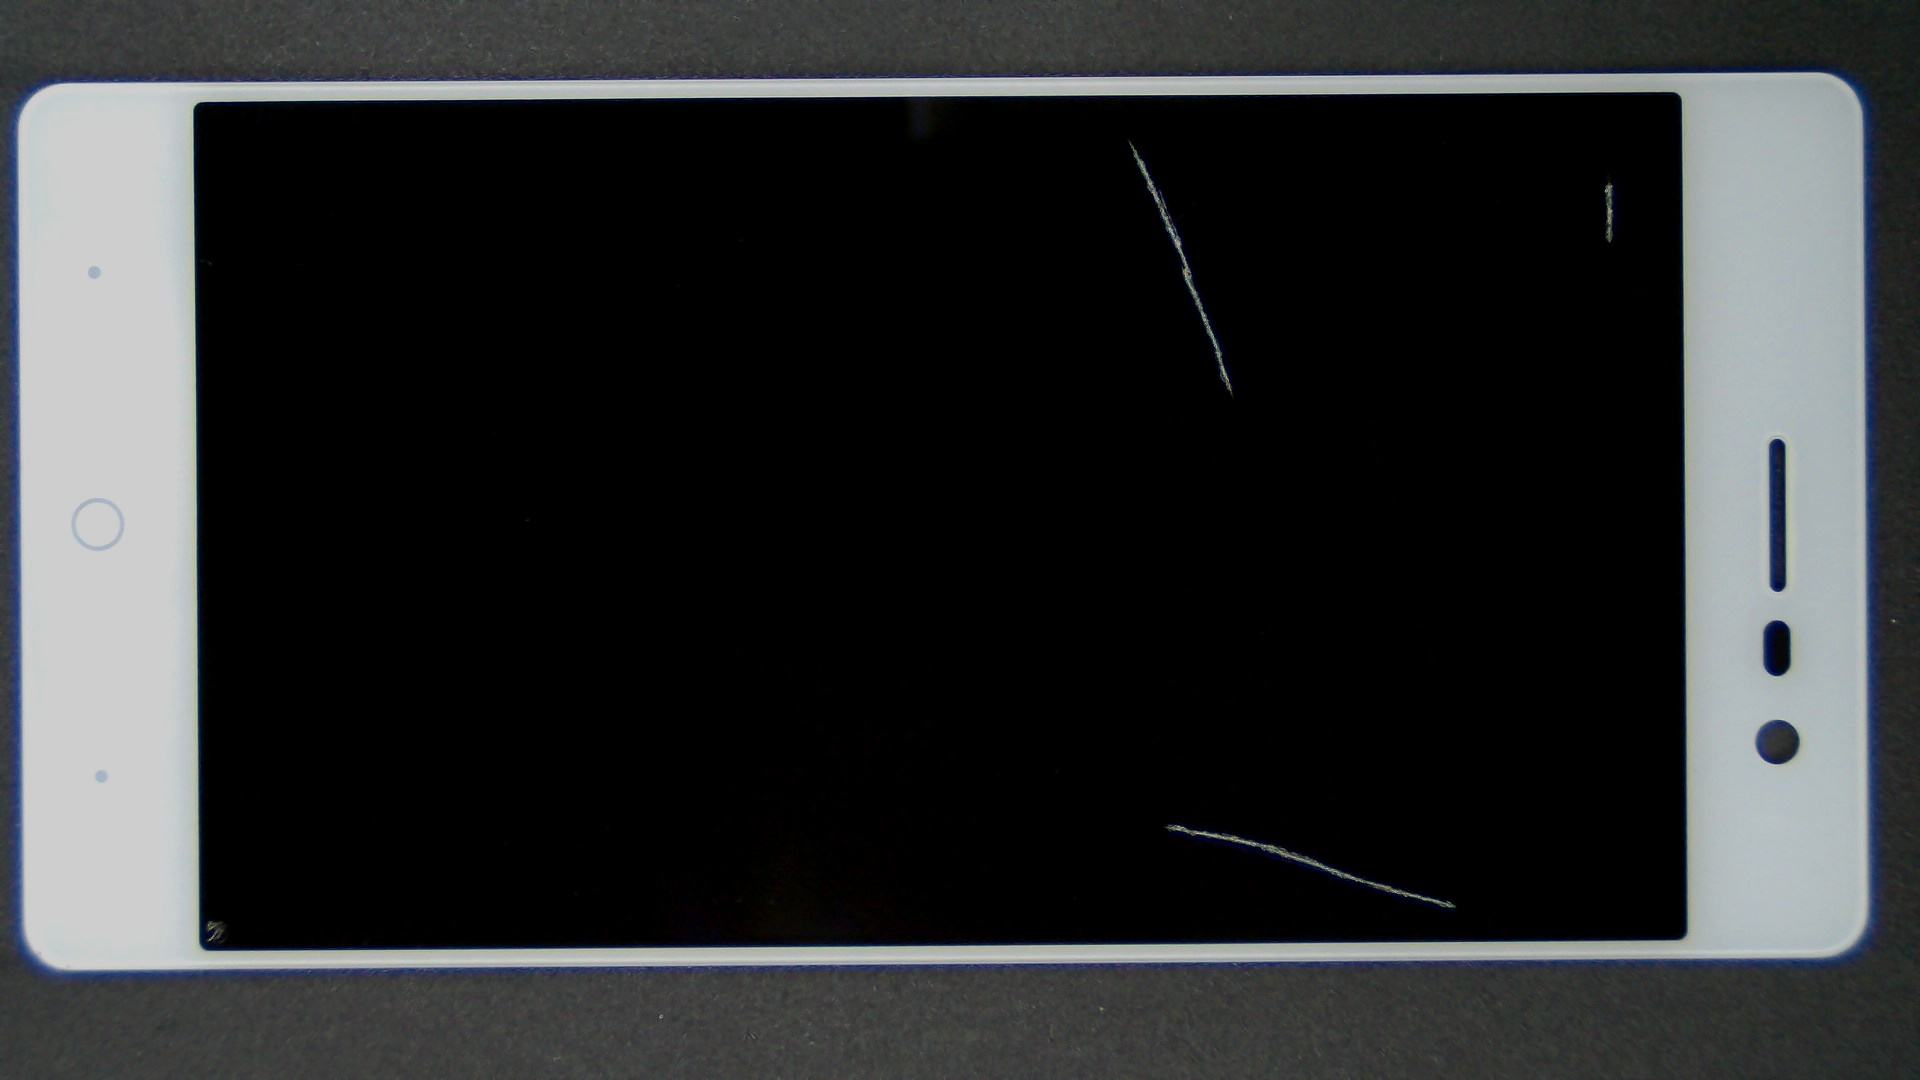oil: (585, 411, 1754, 1080), (804, 90, 1920, 272), (564, 69, 1693, 208), (108, 459, 320, 1080)
